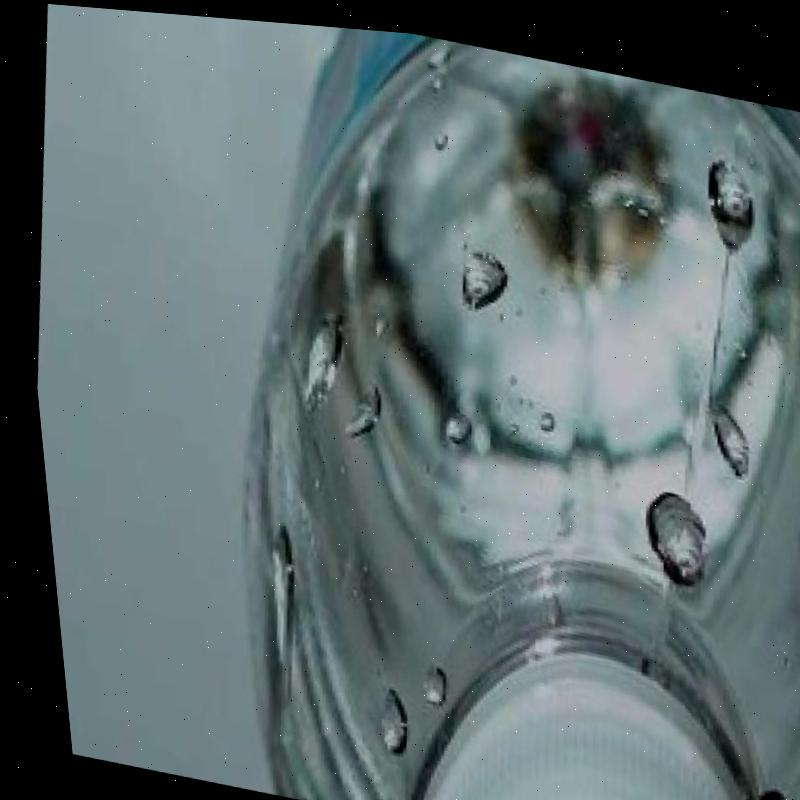botella: (158, 10, 800, 800)
